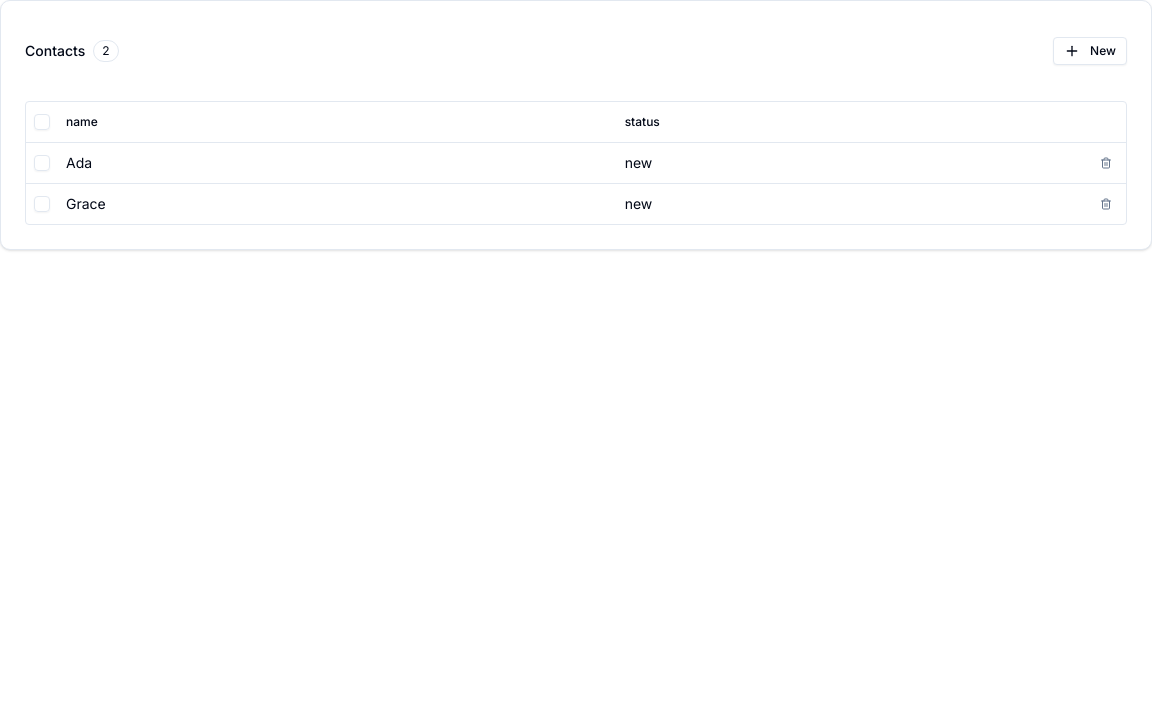
Scenario: RelatedList › mass edit (bulk jobs) › surfaces a FAILED job as an error toast and keeps the dialog open
This screenshot has width=1152, height=720.
Click the checkbox with test id "related-select-all" at (42, 122), box [34, 114, 50, 130]
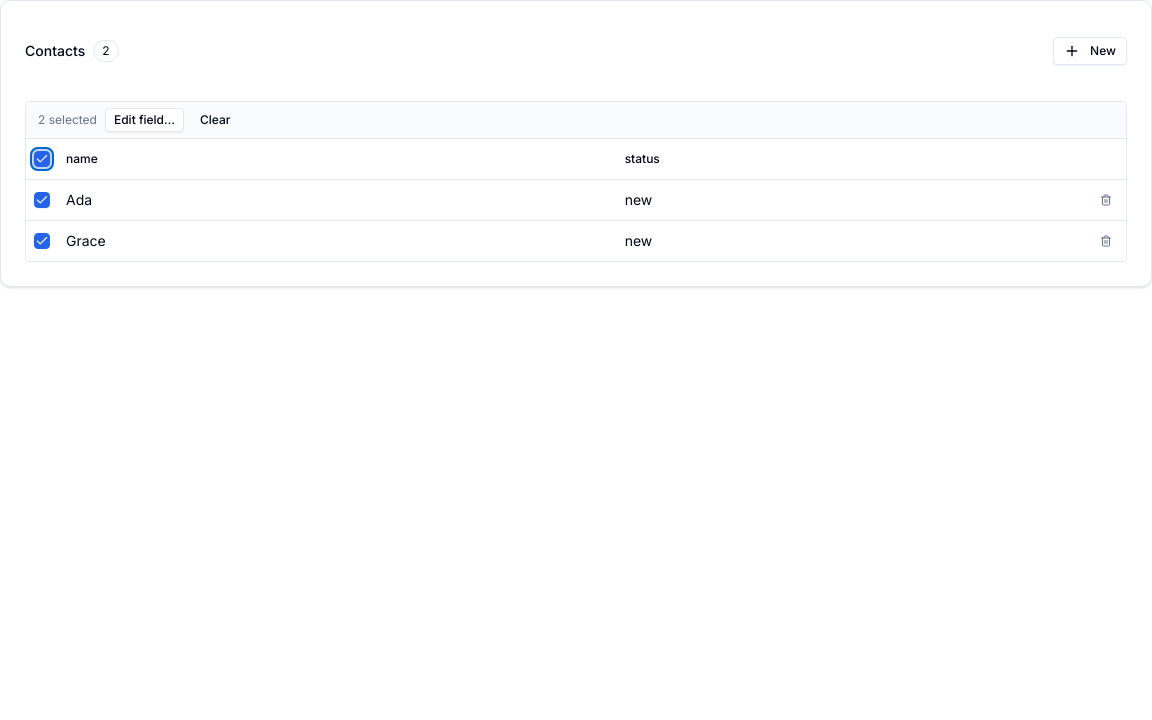
Click the button with test id "related-mass-edit-open" at (144, 120), box [105, 108, 184, 132]
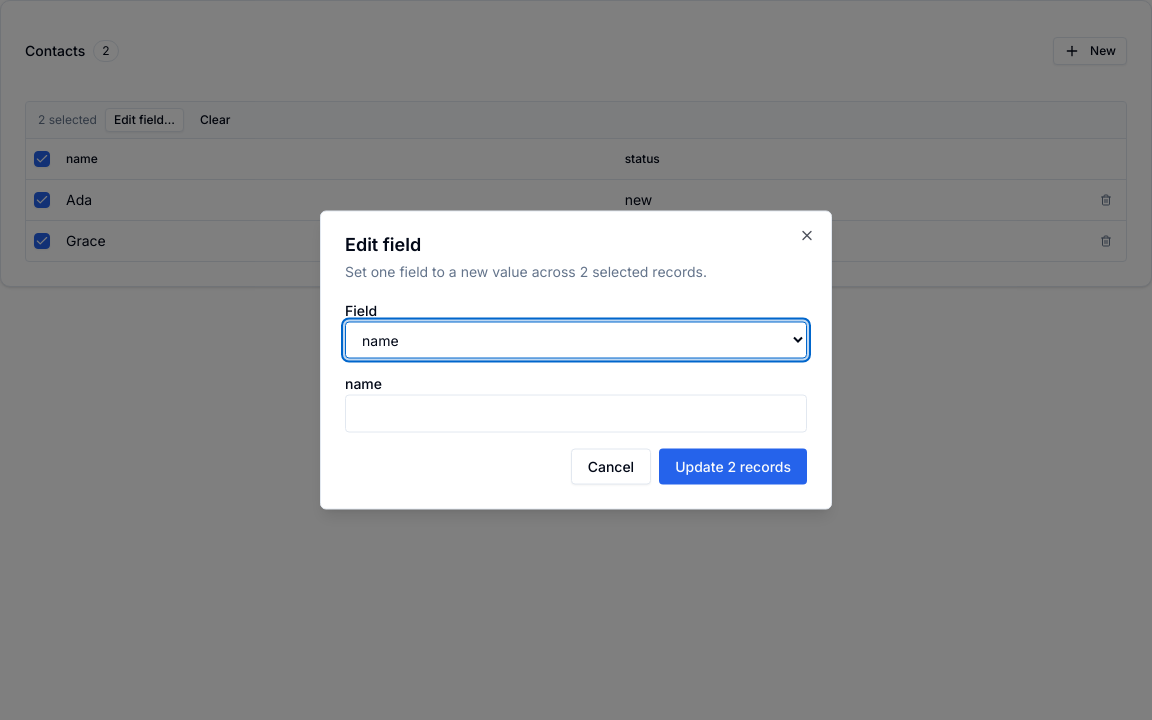
Select "status" in the dropdown with test id "mass-edit-field-select" at (576, 340), box [345, 322, 807, 358]
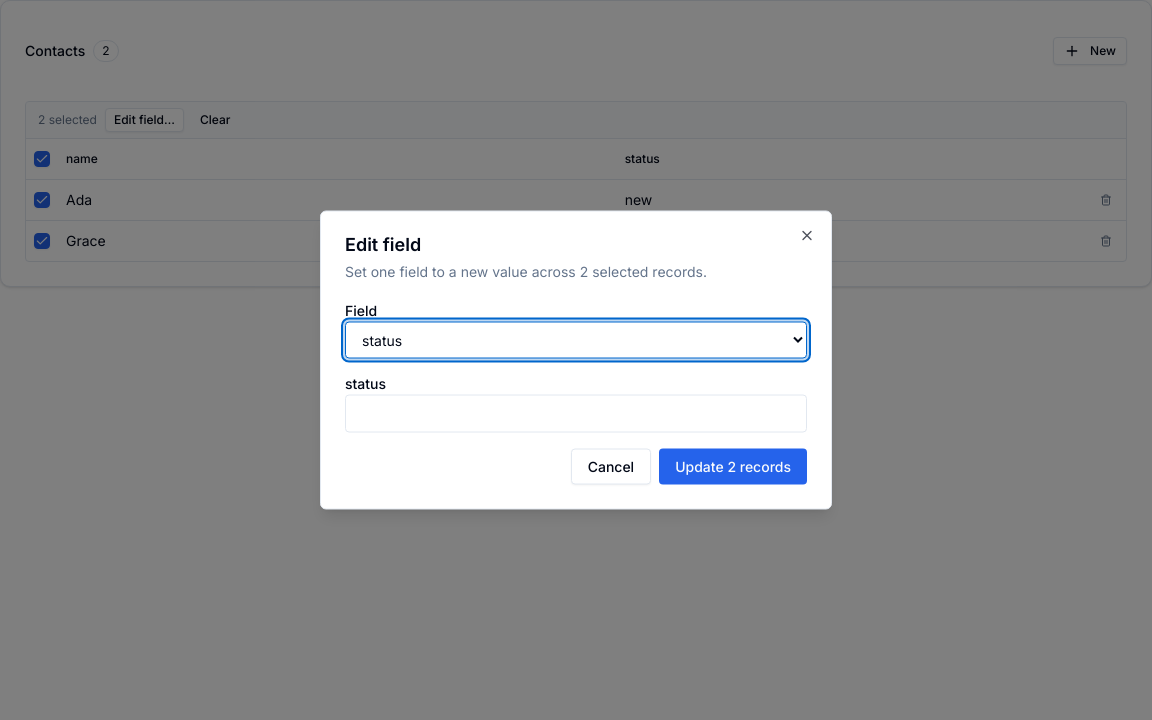
Type "closed" into the field at (576, 414), box [345, 394, 807, 432]
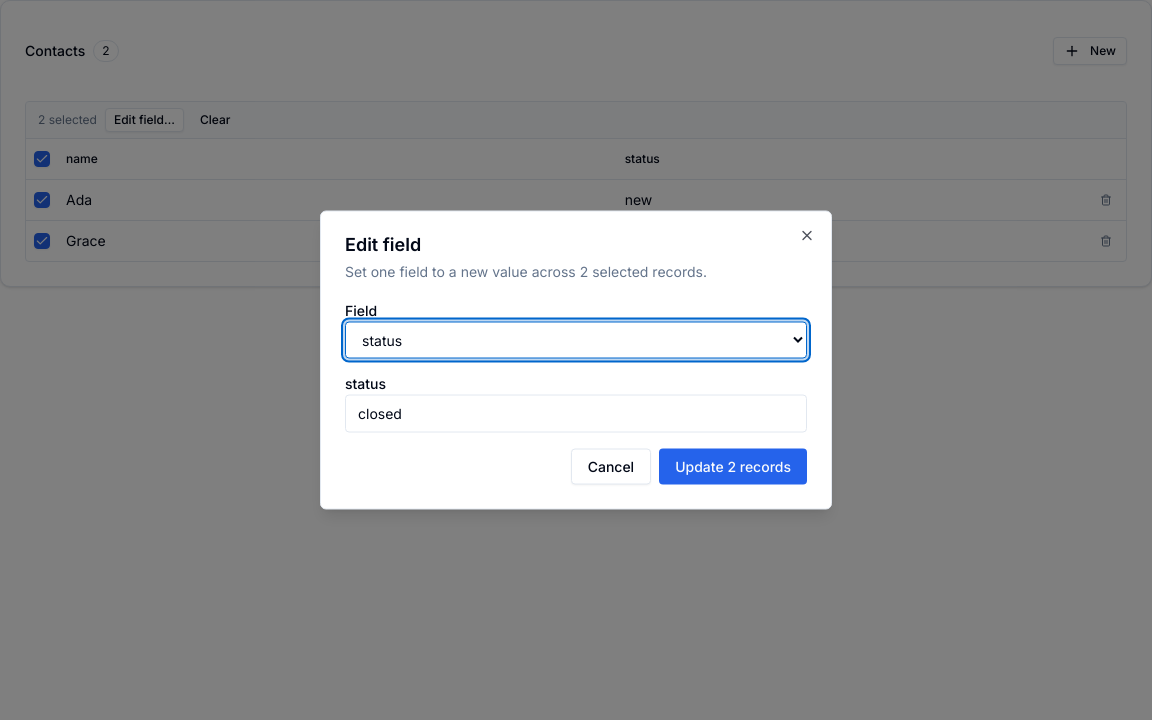
Click the button with test id "mass-edit-submit" at (733, 466), box [659, 448, 807, 484]
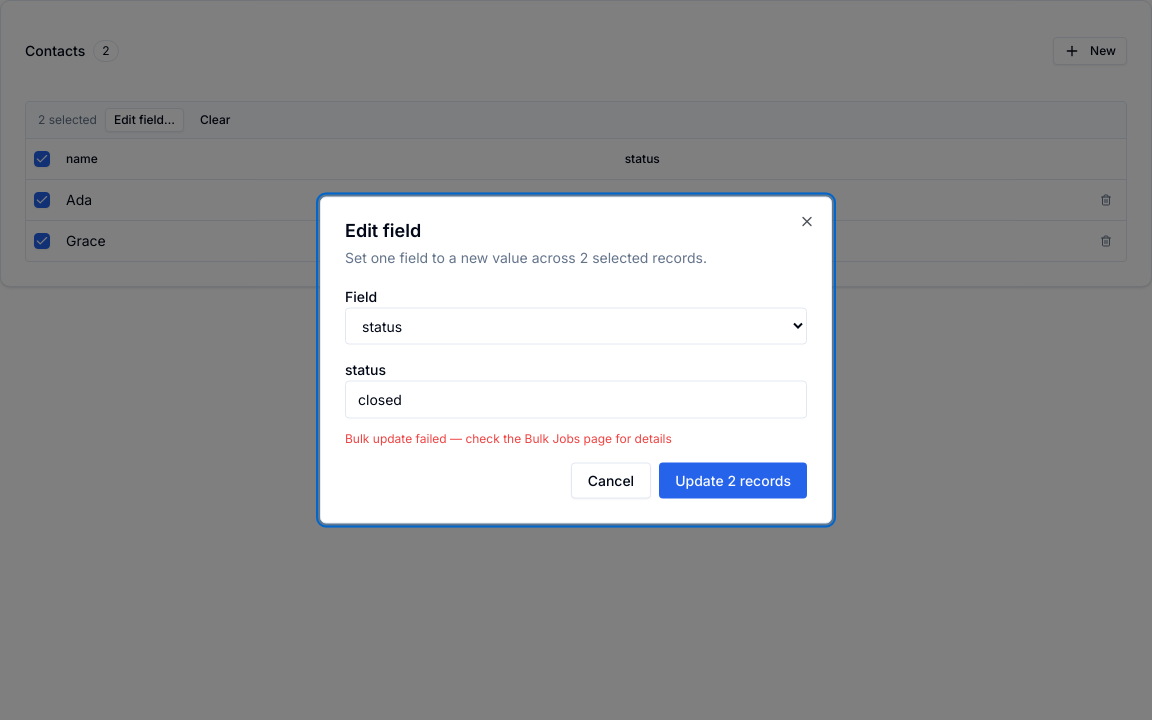
Result: the dialog with test id "mass-edit-dialog" is shown at [320, 196, 832, 524]
Result: the message with test id "mass-edit-error" shows "Bulk update failed" at [345, 430, 672, 446]
